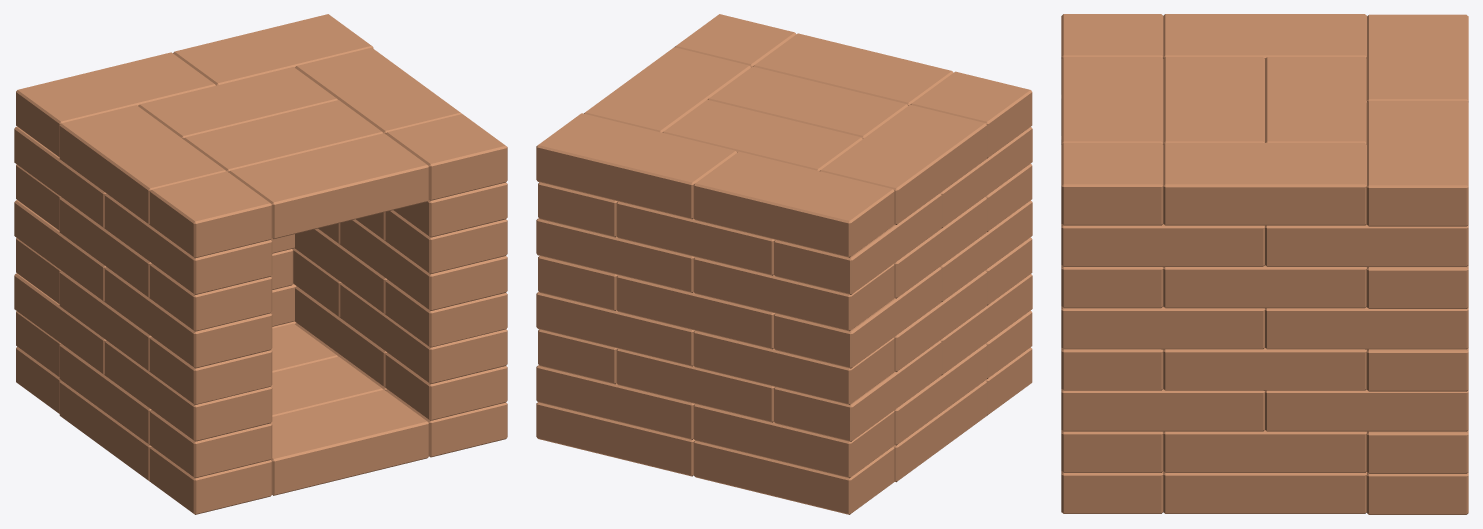
Rendered from pec.fbx.
The picture shows the model from 3 angles, left to right: view 1: azimuth 30°, elevation 25°; view 2: azimuth 150°, elevation 25°; view 3: azimuth 270°, elevation 25°; orthographic projection. The views are drawn at different scales.
Parts seen in each view (by area): view 1: pec; view 2: pec; view 3: pec.
Boxes of the visible parts, x1,y1,x2,y2 form: pec: (14,14,507,514); pec: (536,14,1032,514); pec: (1061,14,1468,514).
Size of the model in its own units: 58.26 by 51.78 by 57.97.
